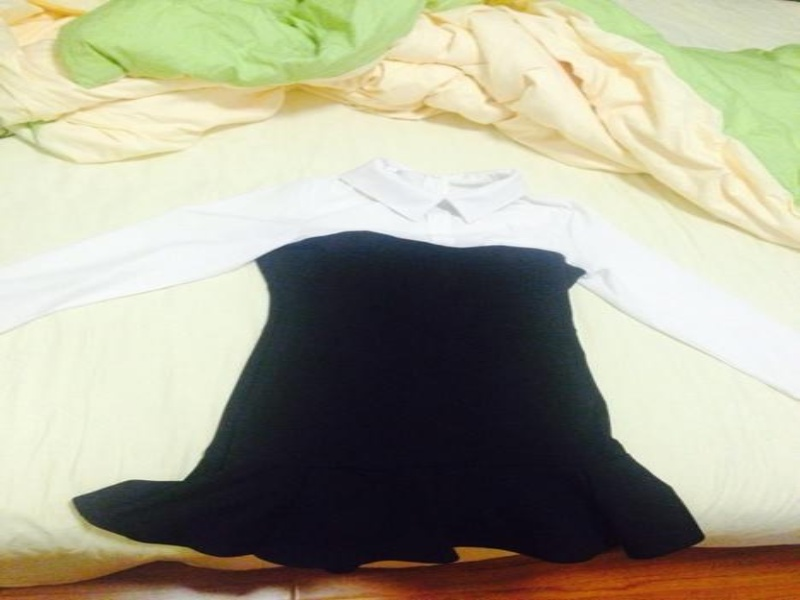long_sleeved_dress: (0, 157, 798, 578)
